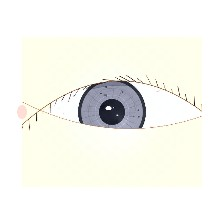pinguecula_lesion: (23, 89, 62, 120)
